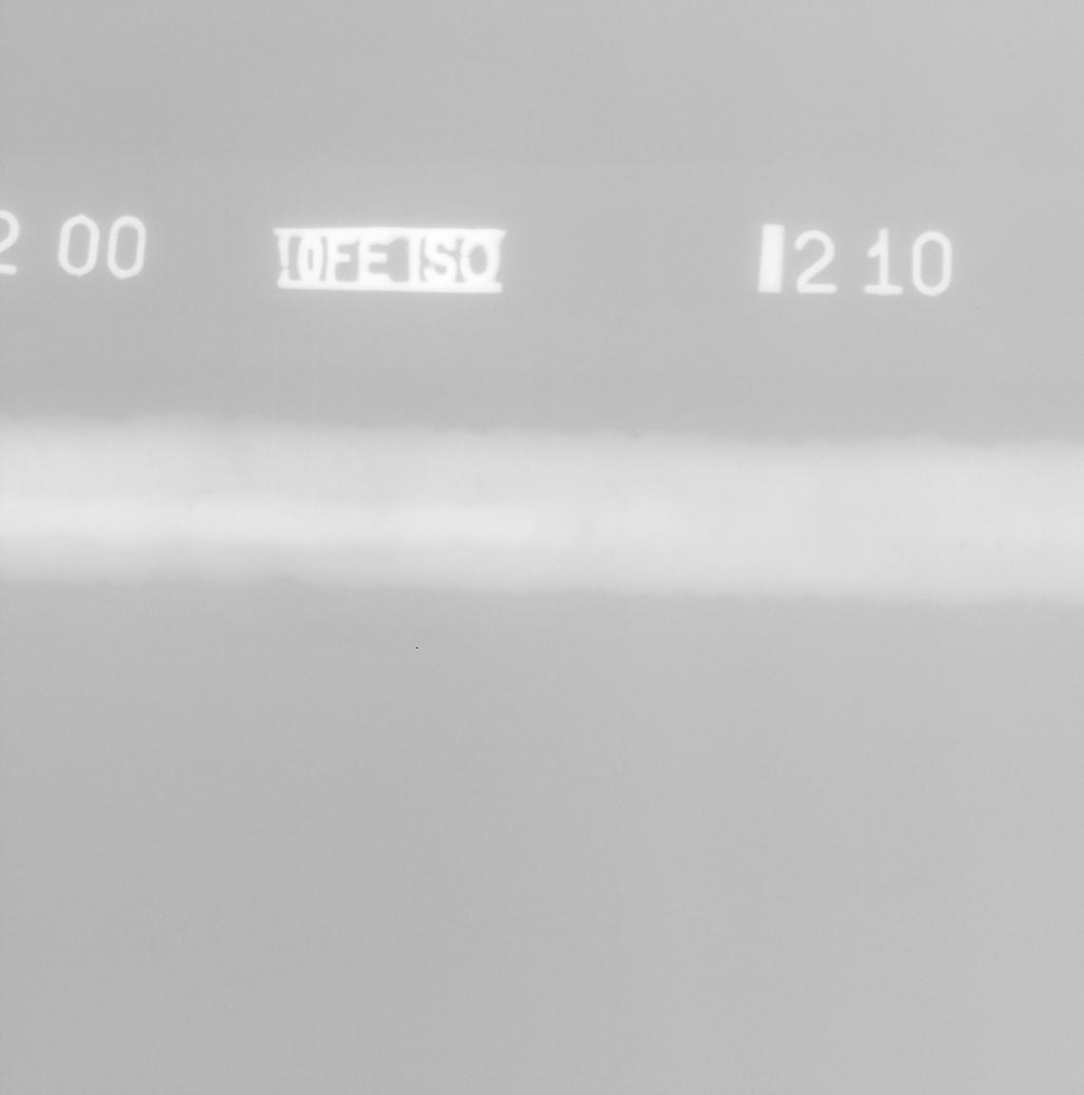Pore/Porosity: (997, 543, 1004, 550), (961, 541, 967, 548), (984, 519, 989, 524), (468, 504, 473, 509), (187, 504, 192, 509)
